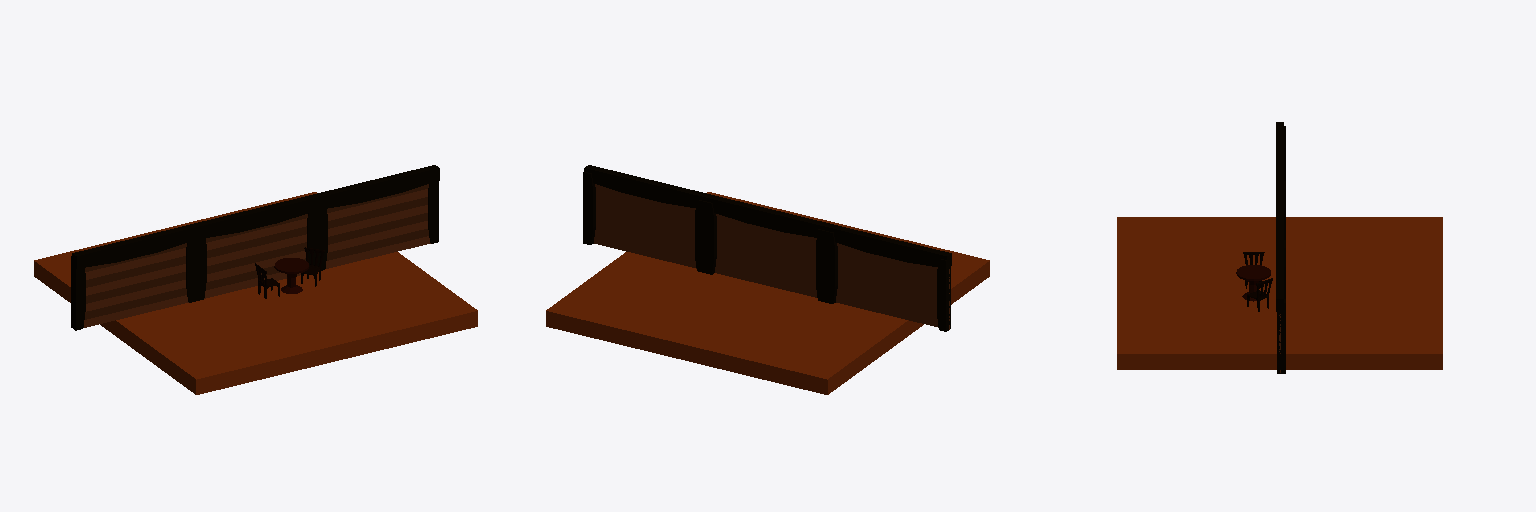
The model's file is MenuBackWithoutBoard.obj.
The picture shows the model from 3 angles: view 1: azimuth 30°, elevation 25°; view 2: azimuth 150°, elevation 25°; view 3: azimuth 270°, elevation 25°; orthographic projection.
Parts seen in each view (by area): view 1: Cube.003, Cube.005, Cube.008, Cube.001, Cube.009, Cube.006, Cube.002, Cube.007, Cube.004, Cube; view 2: Cube.003, Cube.008, Cube.005, Cube.001, Cube.009, Cube.006, Cube.002, Cube.007, Cube, Cube.004; view 3: Cube.003, Cube.004.
Part boxes in pixels (left/top/right/bottom): Cube.003: left=34, top=192, right=477, bottom=394; Cube.005: left=326, top=184, right=430, bottom=268; Cube.008: left=84, top=243, right=188, bottom=327; Cube.001: left=204, top=214, right=307, bottom=298; Cube.009: left=72, top=224, right=197, bottom=268; Cube.006: left=315, top=165, right=439, bottom=209; Cube.002: left=194, top=194, right=318, bottom=238; Cube.007: left=71, top=240, right=196, bottom=330; Cube.004: left=318, top=181, right=438, bottom=270; Cube: left=197, top=210, right=317, bottom=300; Cube.003: left=546, top=192, right=989, bottom=394; Cube.008: left=836, top=243, right=949, bottom=329; Cube.005: left=594, top=184, right=696, bottom=268; Cube.001: left=715, top=214, right=816, bottom=297; Cube.009: left=826, top=224, right=951, bottom=266; Cube.006: left=584, top=165, right=708, bottom=207; Cube.002: left=705, top=194, right=829, bottom=237; Cube.007: left=825, top=231, right=950, bottom=331; Cube: left=704, top=201, right=824, bottom=301; Cube.004: left=583, top=172, right=704, bottom=272; Cube.003: left=1117, top=217, right=1442, bottom=369; Cube.004: left=1277, top=244, right=1285, bottom=373.
Bounding box in the file's own units: 48 × 11.48 × 37.26.